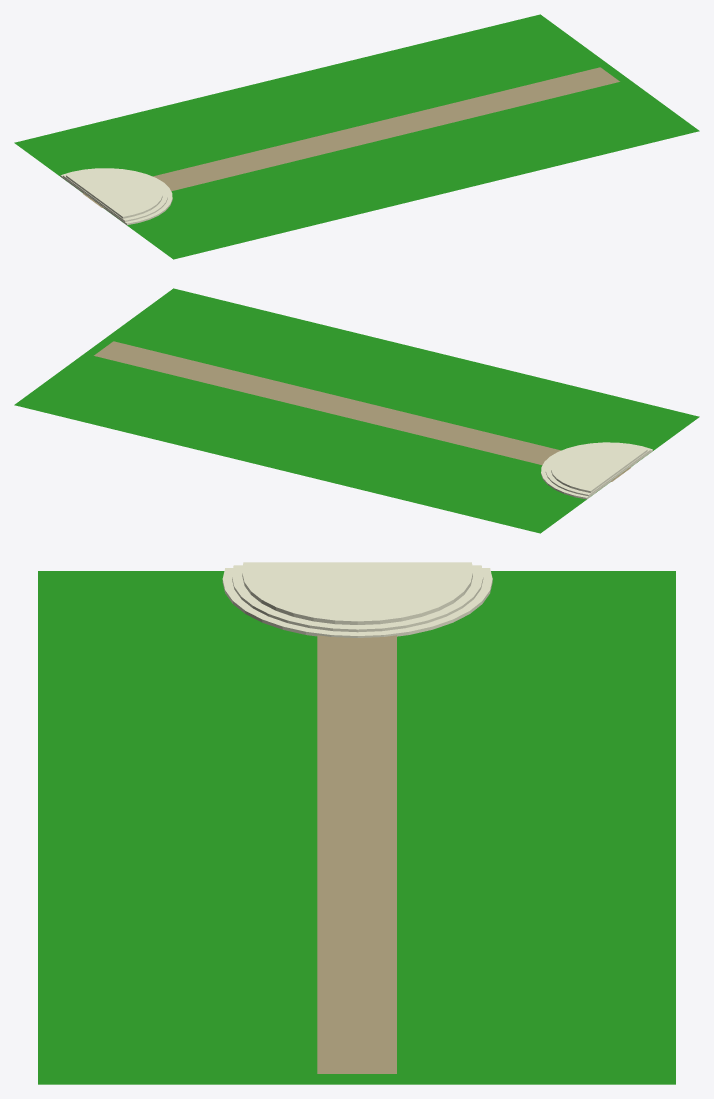
File: Floor.obj
The picture shows the model from 3 angles, top to bottom: view 1: azimuth 30°, elevation 25°; view 2: azimuth 150°, elevation 25°; view 3: azimuth 270°, elevation 25°; orthographic projection. The views are drawn at different scales.
Parts seen in each view (by area): view 1: Окружность.000_Окружность.001; view 2: Окружность.000_Окружность.001; view 3: Окружность.000_Окружность.001.
Part boxes in pixels (x1,y1,x2,y2): Окружность.000_Окружность.001: [14, 14, 699, 259]; Окружность.000_Окружность.001: [14, 288, 699, 533]; Окружность.000_Окружность.001: [38, 562, 675, 1084].
Size of the model in its own units: 60.32 by 0.5356 by 31.57.
